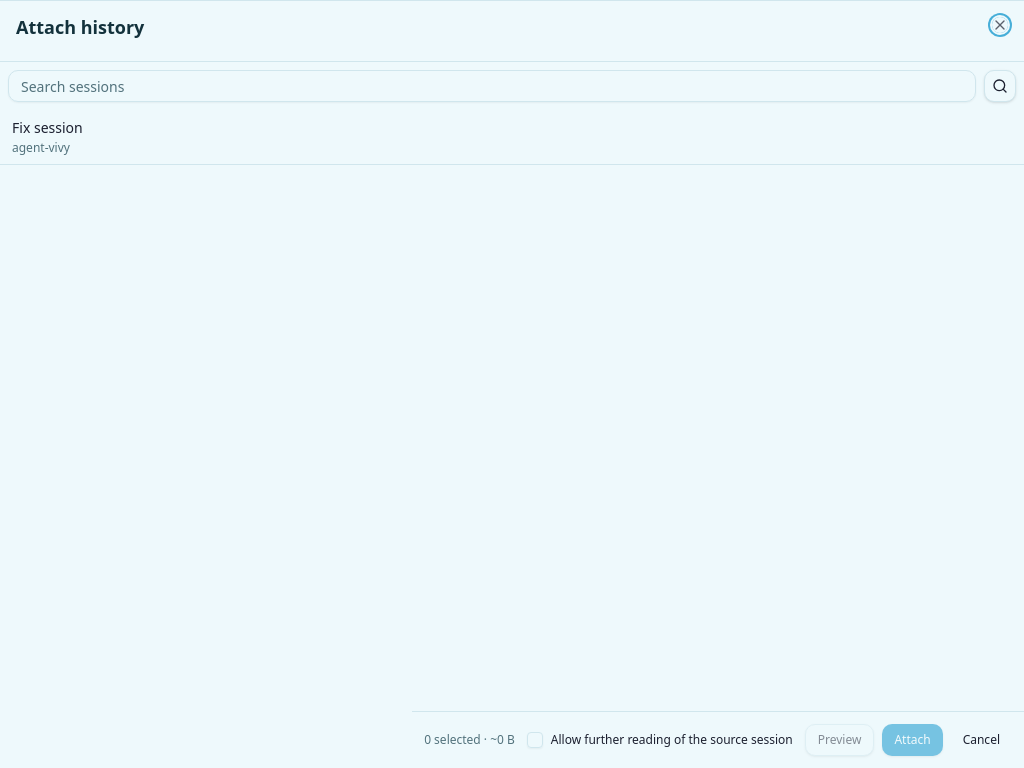
Test: HistoryPicker › keeps an over-limit selection selected but blocks attach with a narrowing hint
The width and height of the screenshot is (1024, 768).
Click the button "Fix session agent-vivy": x=47, y=128 0,110 -> 1023,165
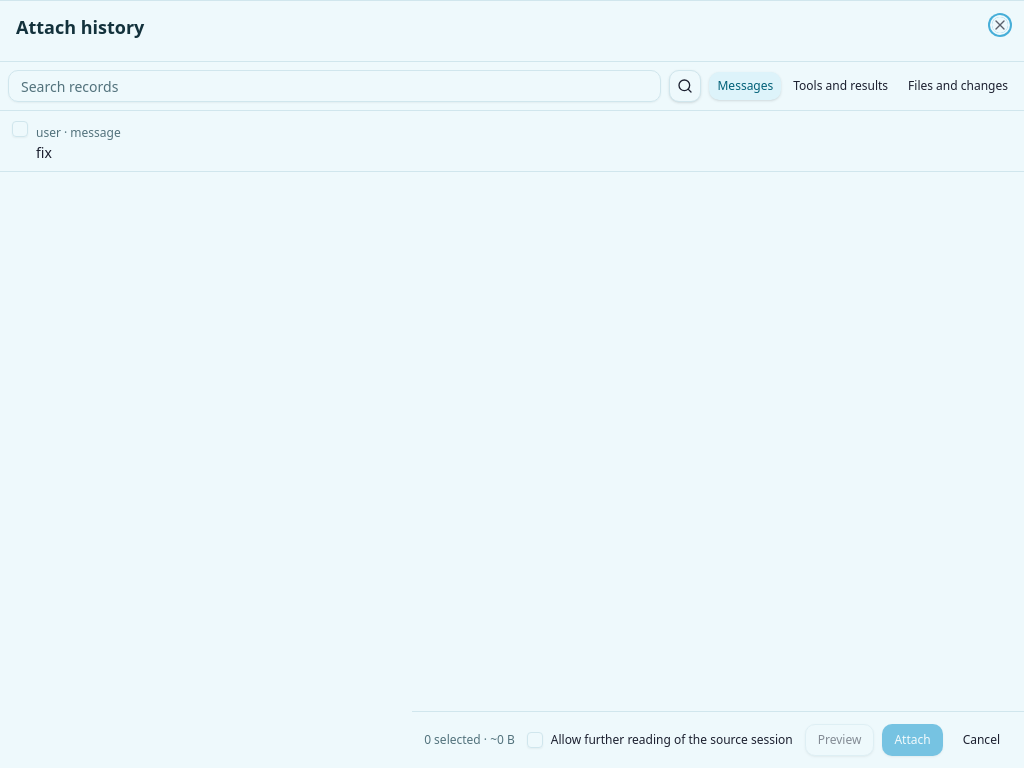
Click the checkbox named "Select user message": x=20, y=129 12,121 -> 28,137
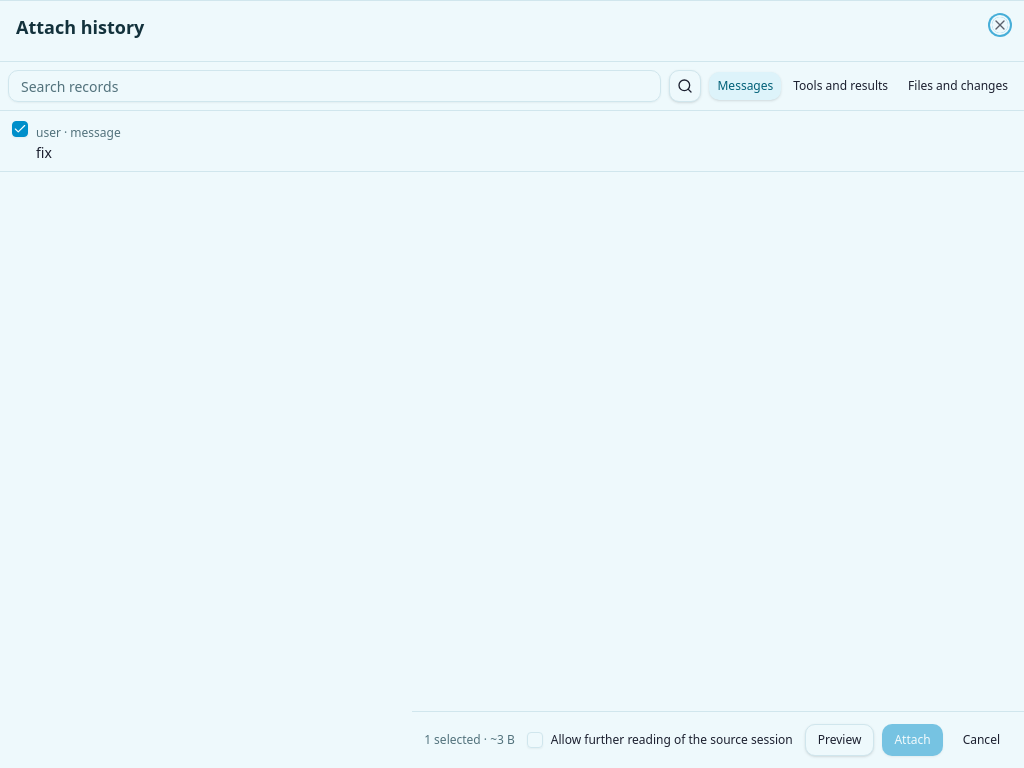
Click the button "Preview": x=840, y=740 805,724 -> 874,756
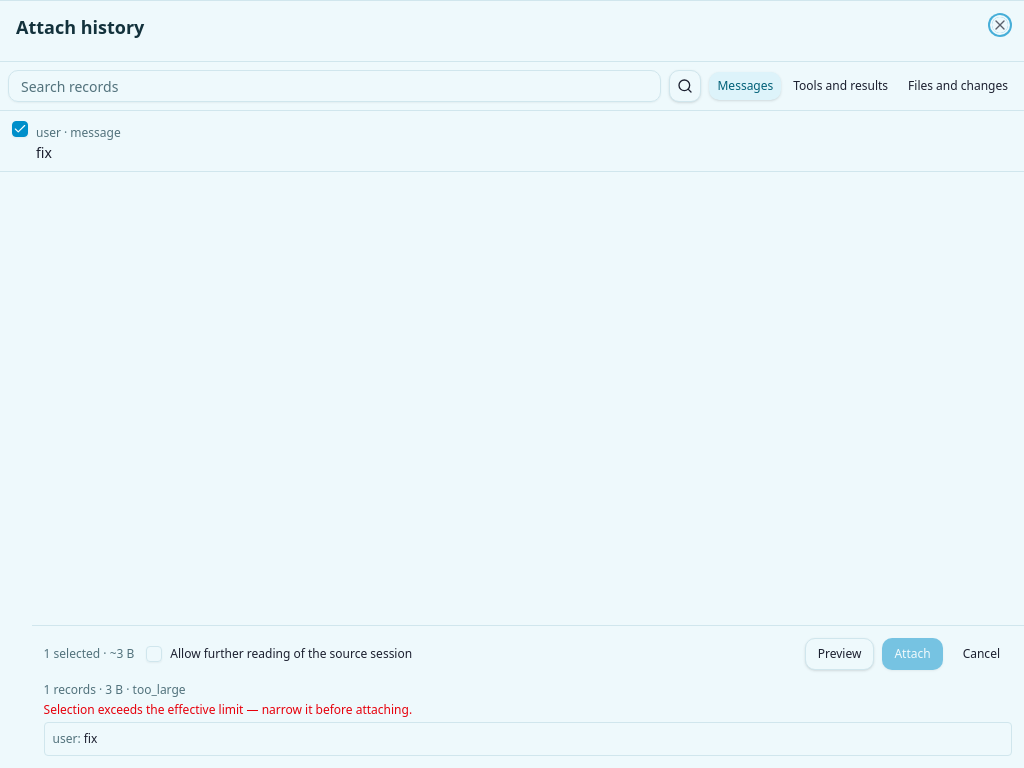
Expected: the button "Attach" is disabled, 882,638 -> 943,670
Now the text "narrow it before attaching" is shown, box 44,701 -> 412,718
